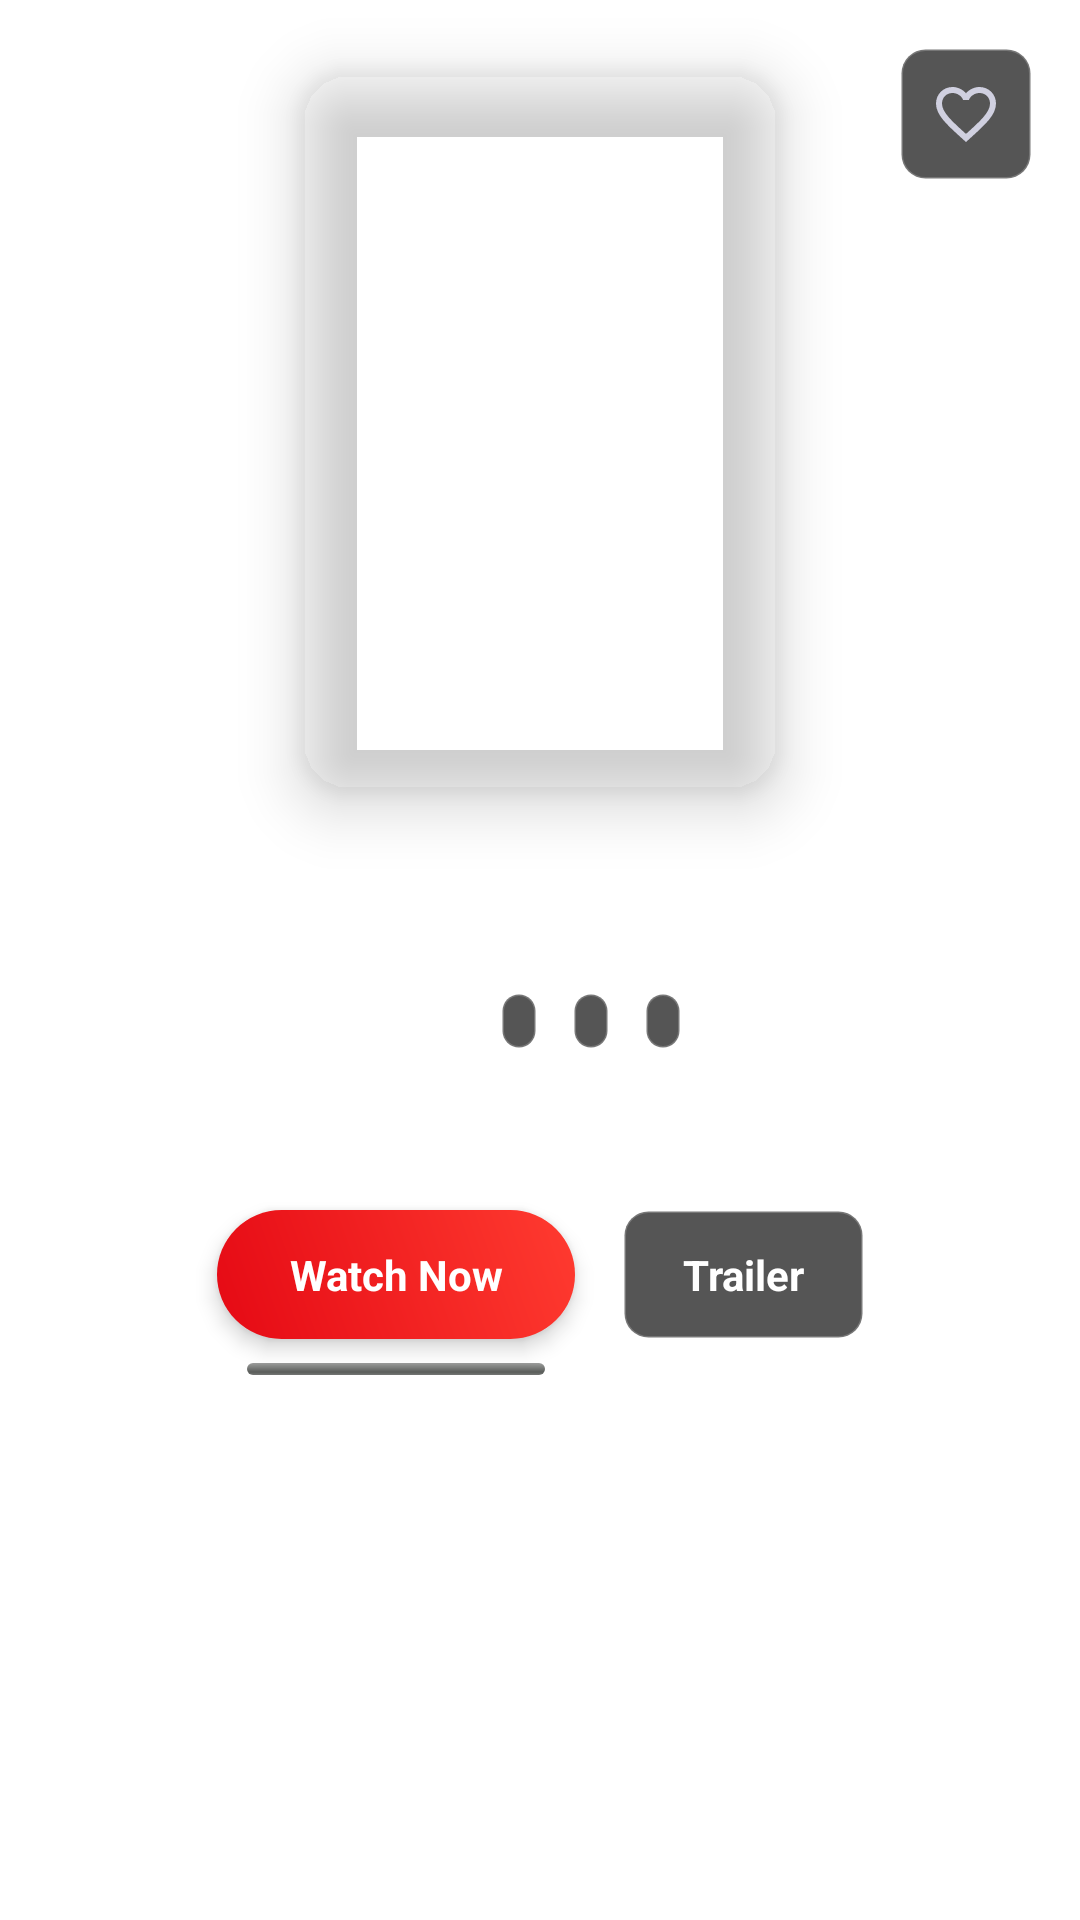

Icon click points for this 1080w x 1920h phone screenshot, format (x,y):
favorite disable: (966,114)
